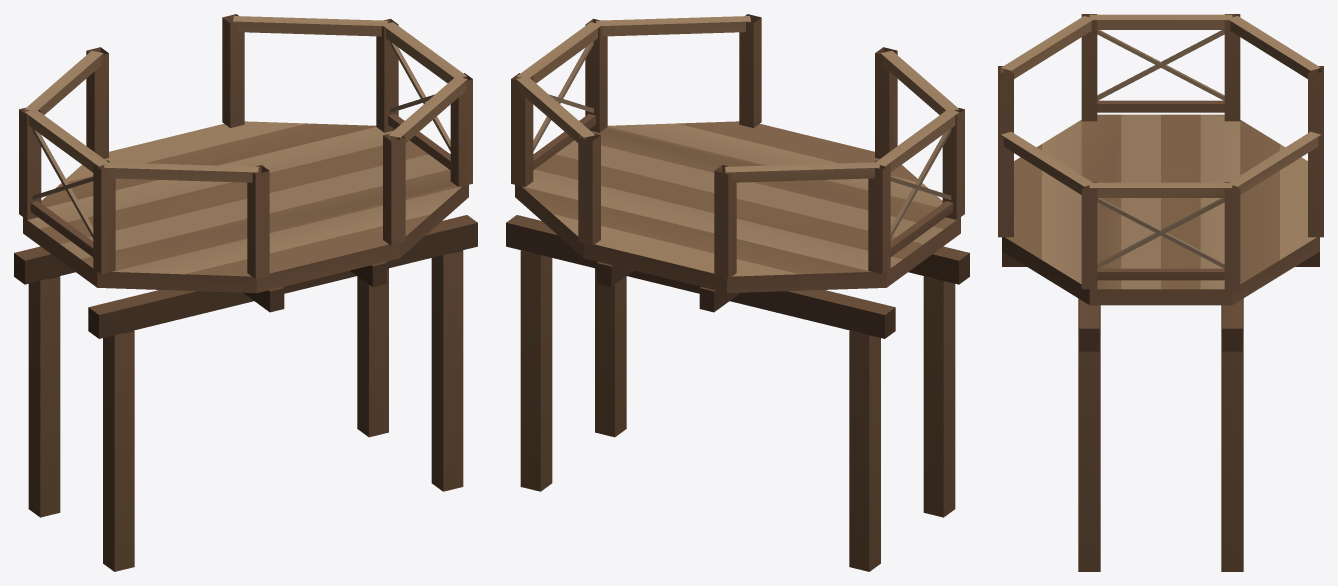
Rendered from custom-passarela-mirante.glb.
The picture shows the model from 3 angles, left to right: view 1: azimuth 30°, elevation 25°; view 2: azimuth 150°, elevation 25°; view 3: azimuth 270°, elevation 25°; orthographic projection. The views are drawn at different scales.
Visible parts, largest first — view 1: passarela-mirante; view 2: passarela-mirante; view 3: passarela-mirante.
Part boxes in pixels (x1,y1,x2,y2): passarela-mirante: (14,14,477,571); passarela-mirante: (506,14,969,571); passarela-mirante: (998,14,1323,571).
Bounding box in the file's own units: 5.3 × 5.4 × 4.1.
